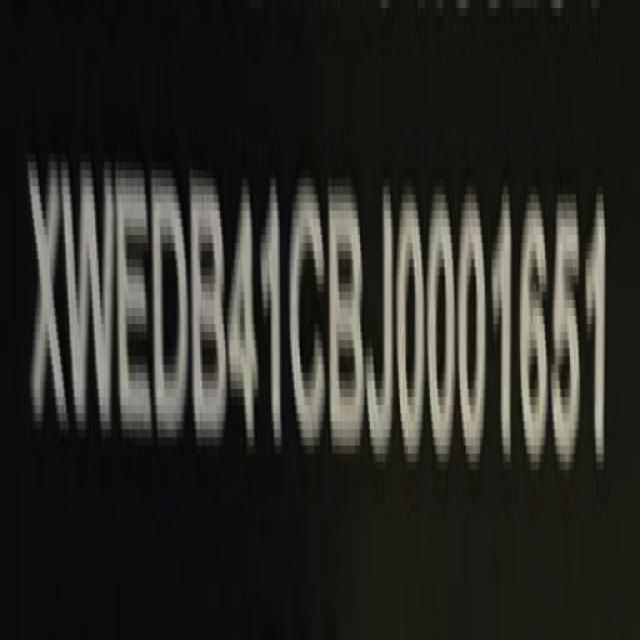0: (425, 174, 456, 468), (456, 180, 487, 468), (396, 174, 425, 468)
1: (583, 180, 611, 480), (260, 168, 284, 459), (492, 171, 514, 471)
4: (228, 174, 258, 462)
6: (517, 186, 549, 471), (550, 195, 582, 477)
B: (328, 171, 366, 447), (191, 165, 228, 435)
C: (288, 171, 326, 453)
D: (151, 159, 188, 441)
E: (115, 165, 154, 435)
J: (368, 174, 396, 462)
W: (62, 156, 116, 438)
X: (27, 150, 68, 456)
